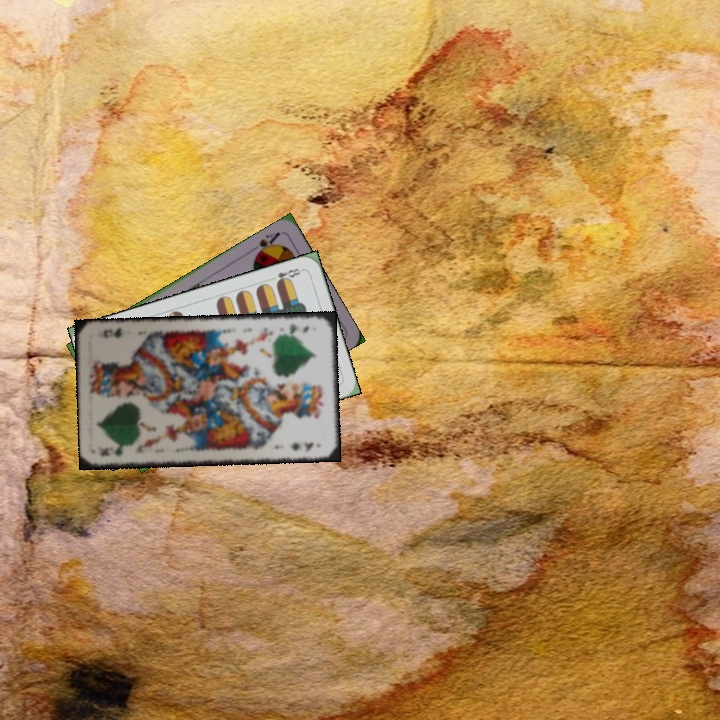E8: (266, 264, 305, 287)
GK: (94, 443, 126, 459), (285, 321, 312, 336)
SA: (247, 228, 283, 260)
